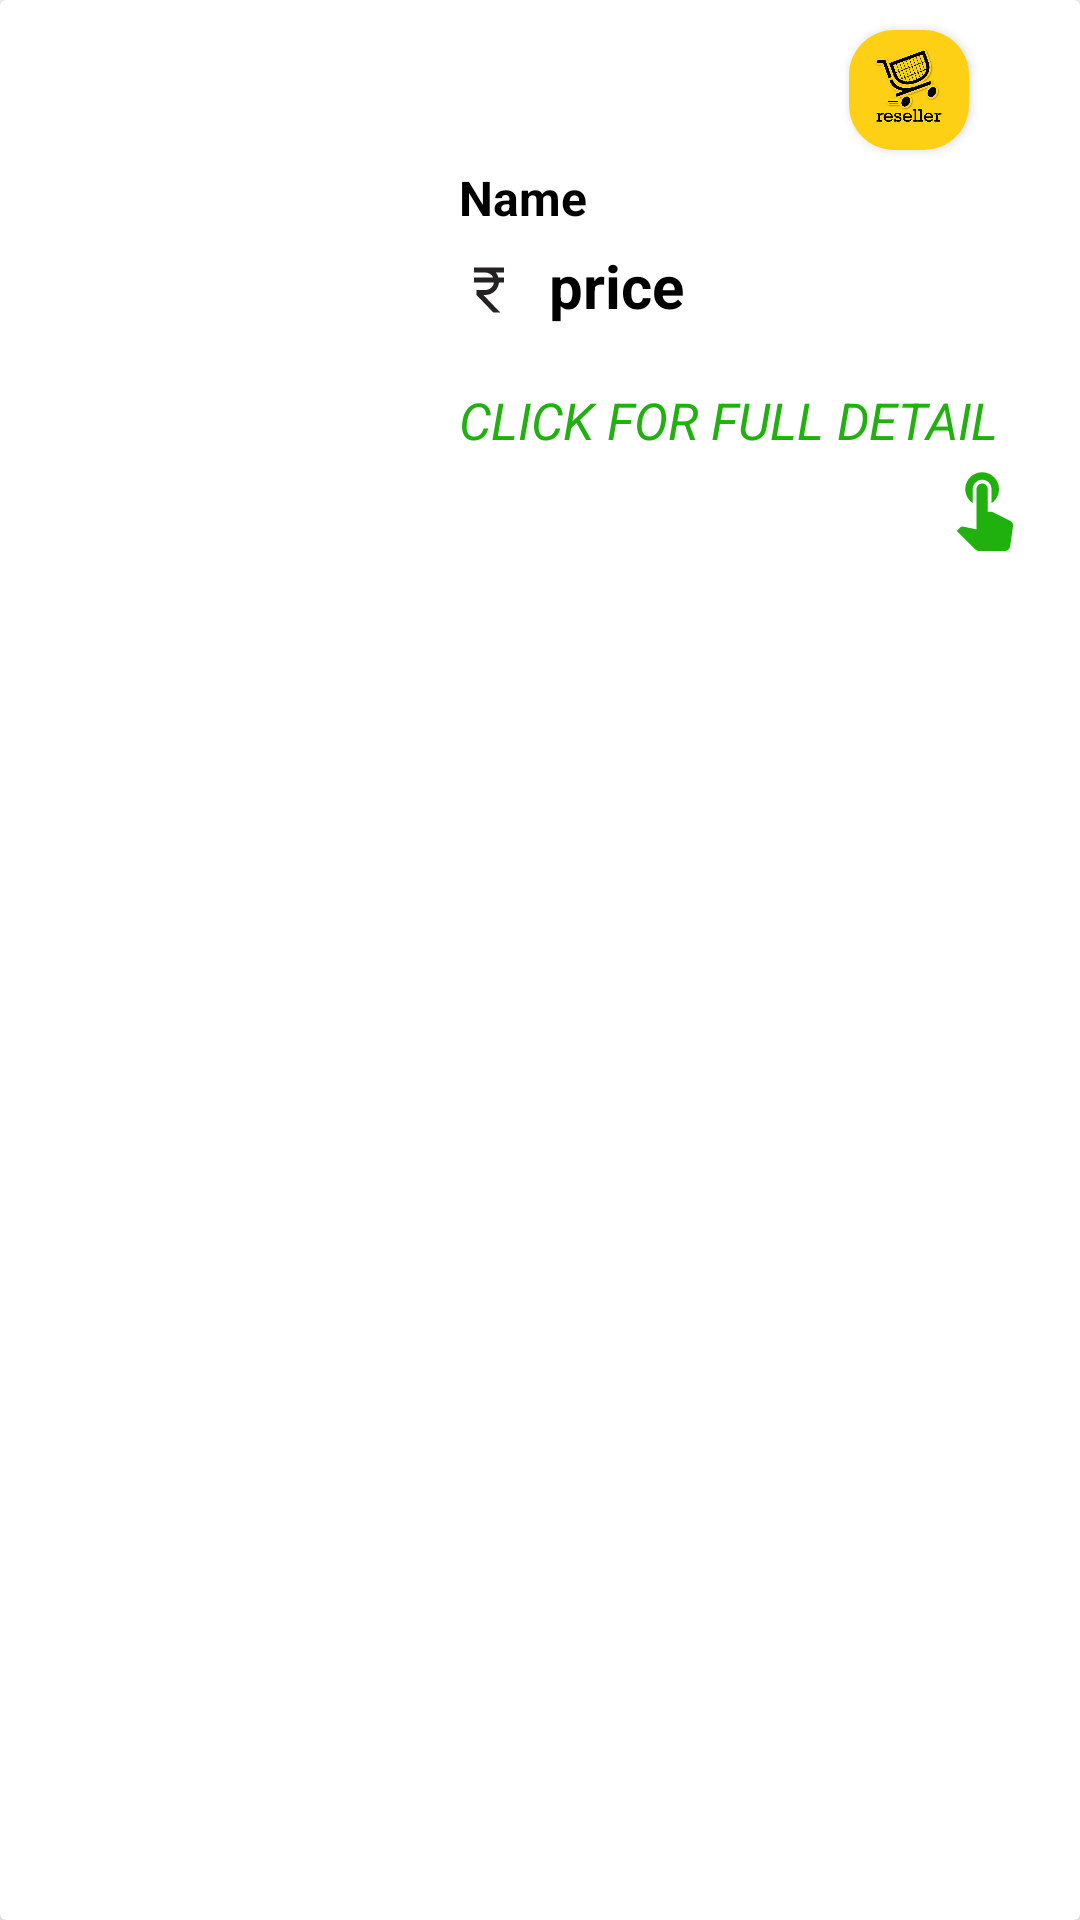

Where to tap for icons on this 1080 x 1920 app screen, as (x=x, y=y):
rupee: (x=489, y=290)
